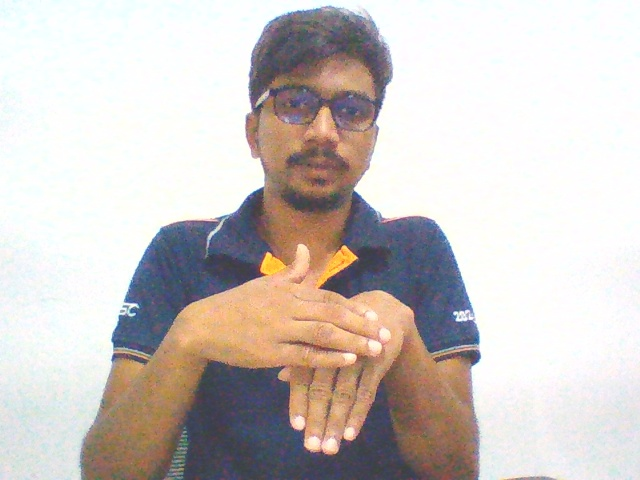pineapple: (167, 228, 421, 463)
